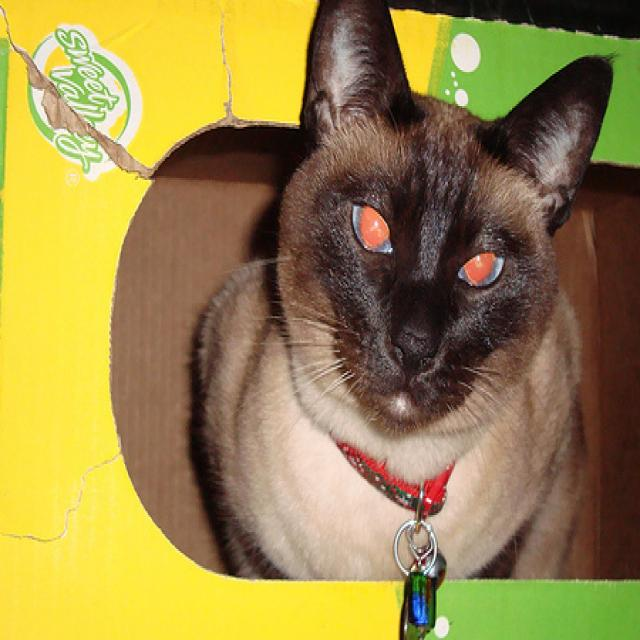Siamese: (186, 0, 614, 585)
